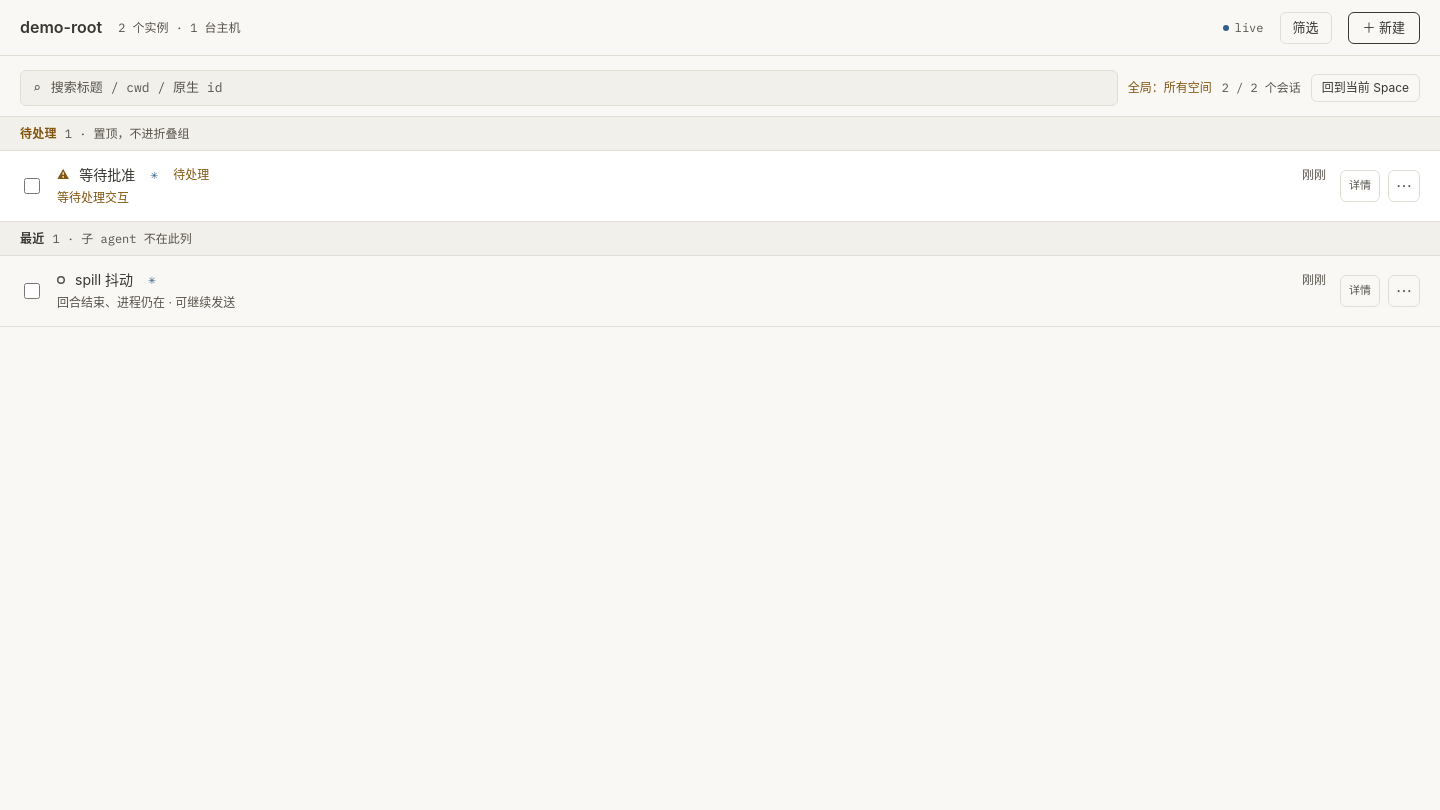
Test case: SessionList scope and conditions › offers host and directory conditions once the search is global
Click the button with test id "session-filter-open". click: point(1306, 28)
box: [1280, 12, 1332, 44]
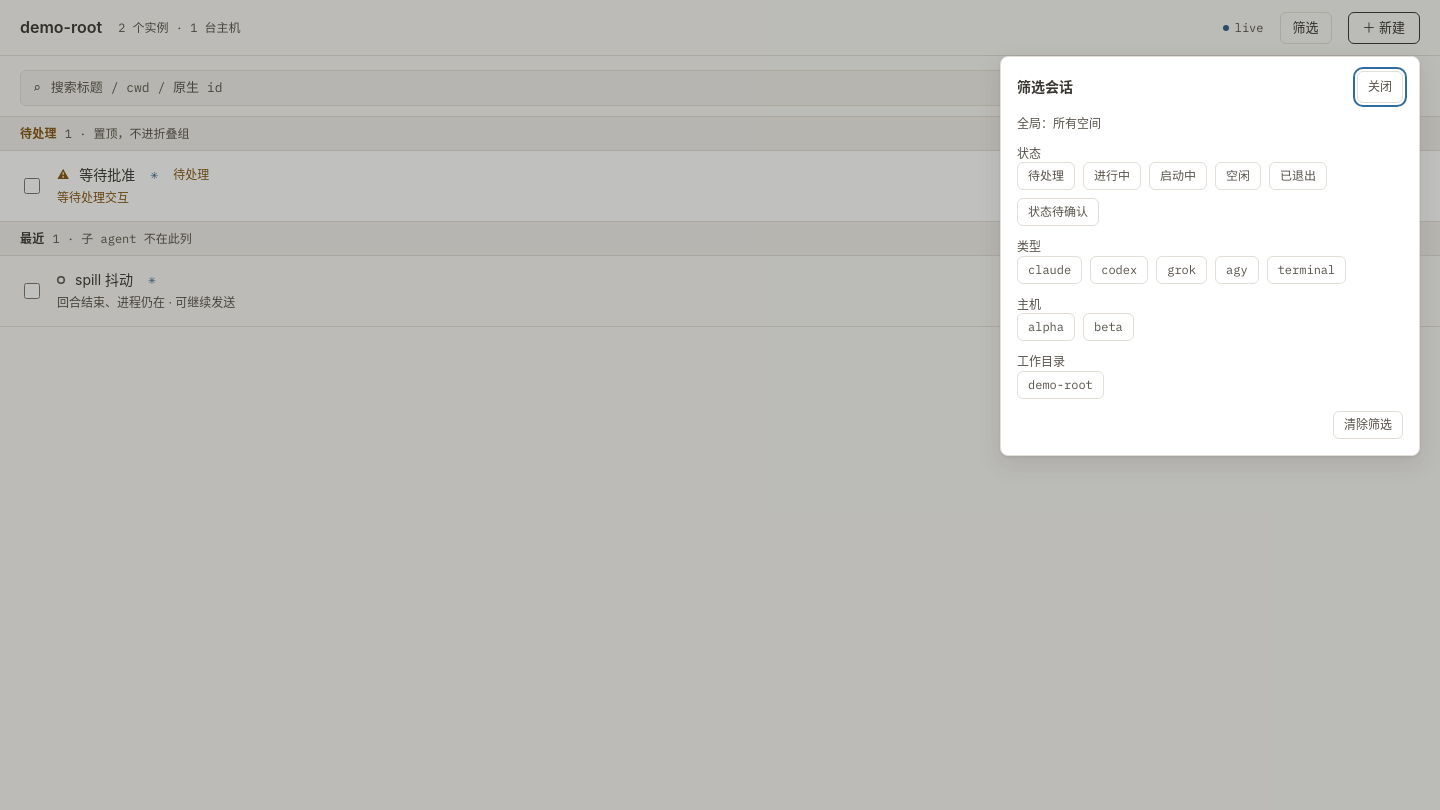
Result: the element with test id "session-filter-hosts" is shown at [1017, 297, 1134, 341]
Result: the element with test id "session-filter-workspaces" is shown at [1017, 354, 1104, 399]
